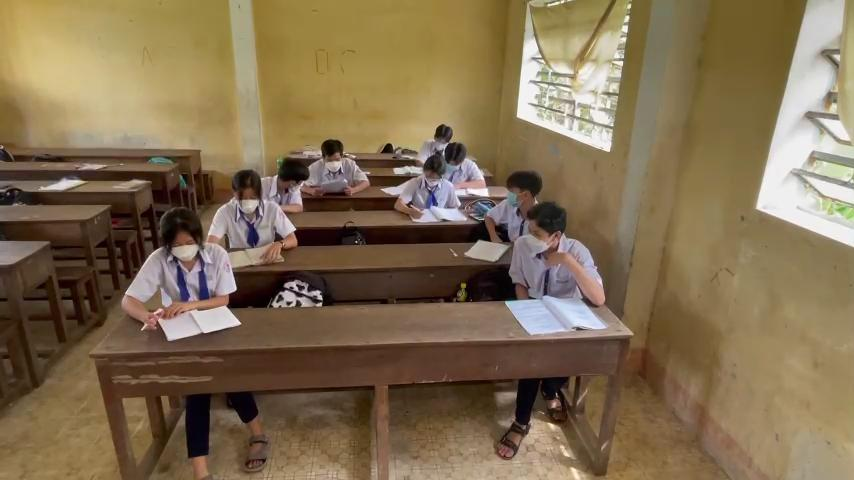Hand Under Table: (441, 174, 462, 211)
Look Around: (519, 195, 568, 258), (270, 152, 310, 197), (504, 164, 543, 209)
